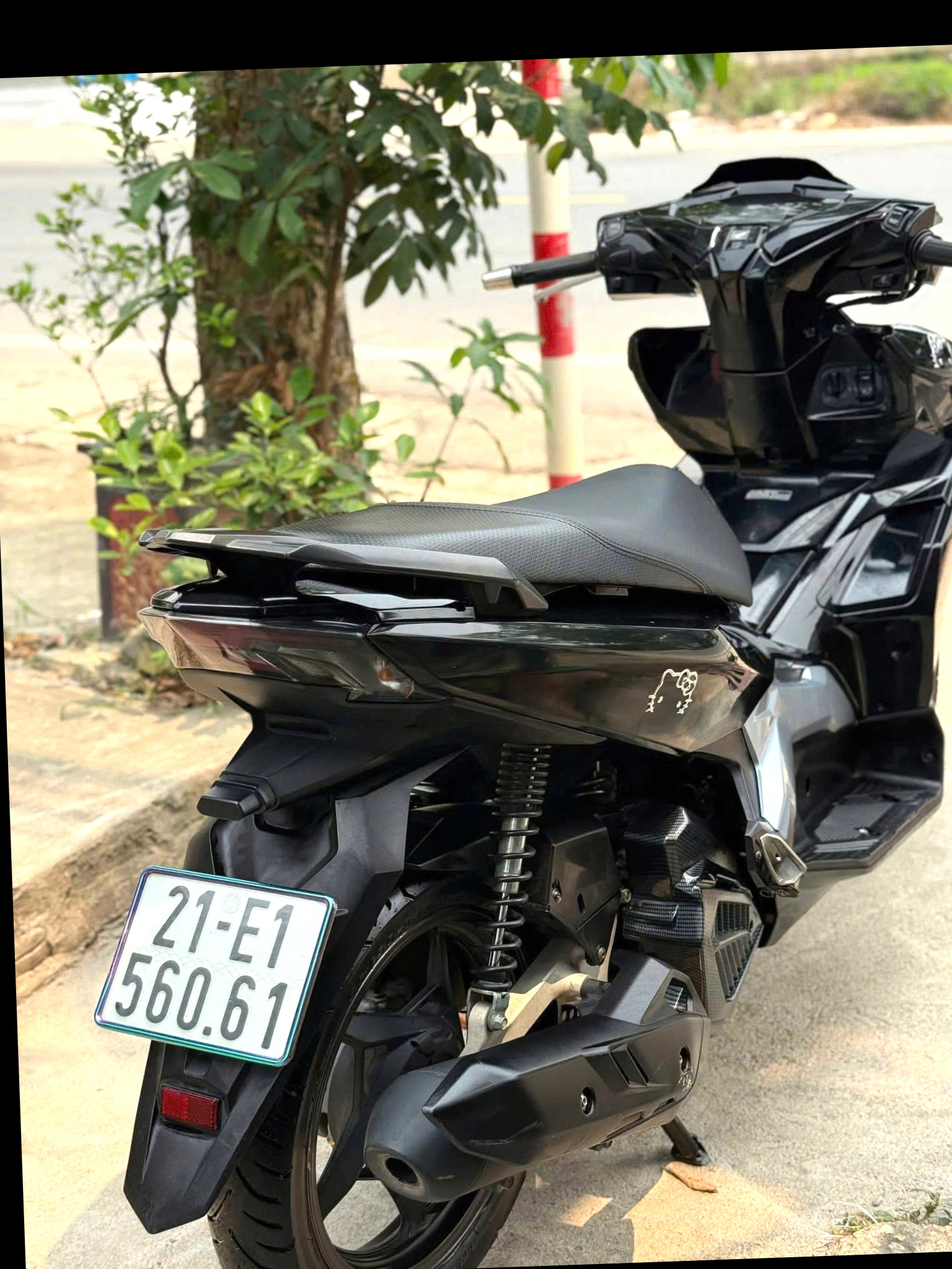Bien-so: (93, 858, 341, 1069)
